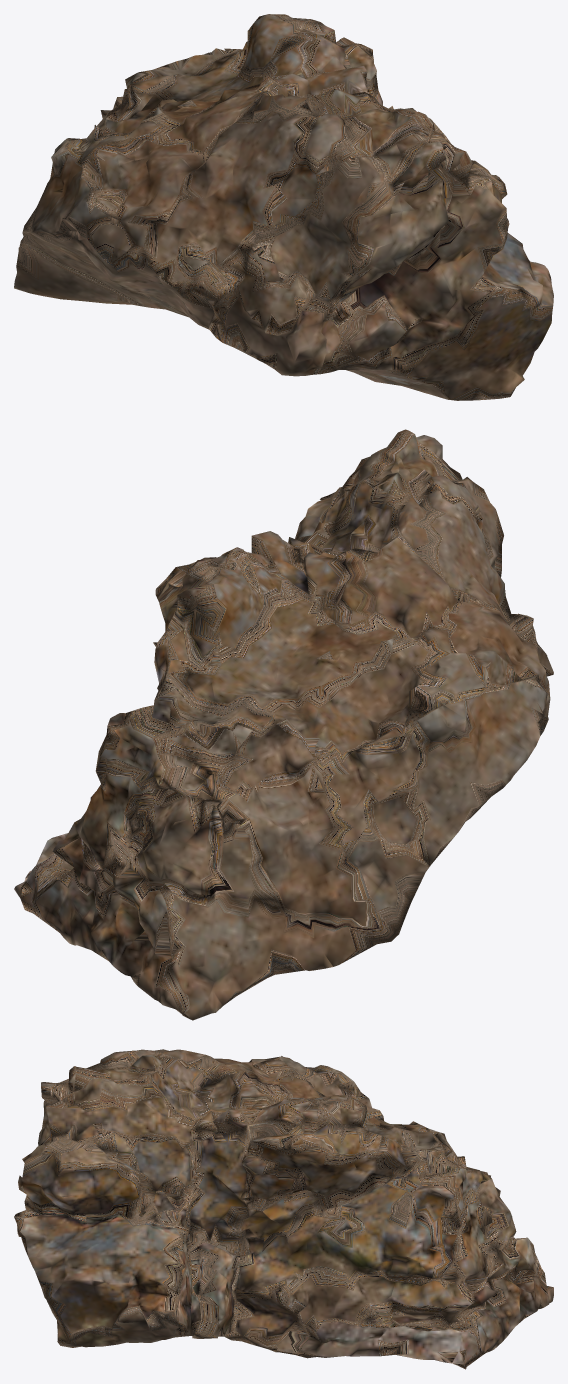
Rendered from boulder_01.986f81c639.glb.
3 renders of one model, top to bottom at view 1: azimuth 30°, elevation 25°; view 2: azimuth 150°, elevation 25°; view 3: azimuth 270°, elevation 25°, orthographic. The views are drawn at different scales.
Parts seen in each view (by area): view 1: boulder_01; view 2: boulder_01; view 3: boulder_01.
Boxes of the visible parts, x1,y1,x2,y2 form: boulder_01: (14,14,553,400); boulder_01: (14,429,553,1020); boulder_01: (14,1049,553,1369).
Bounding box in the file's own units: 1.27 × 1 × 1.82.
Materials: 1 (1 with a texture image).
